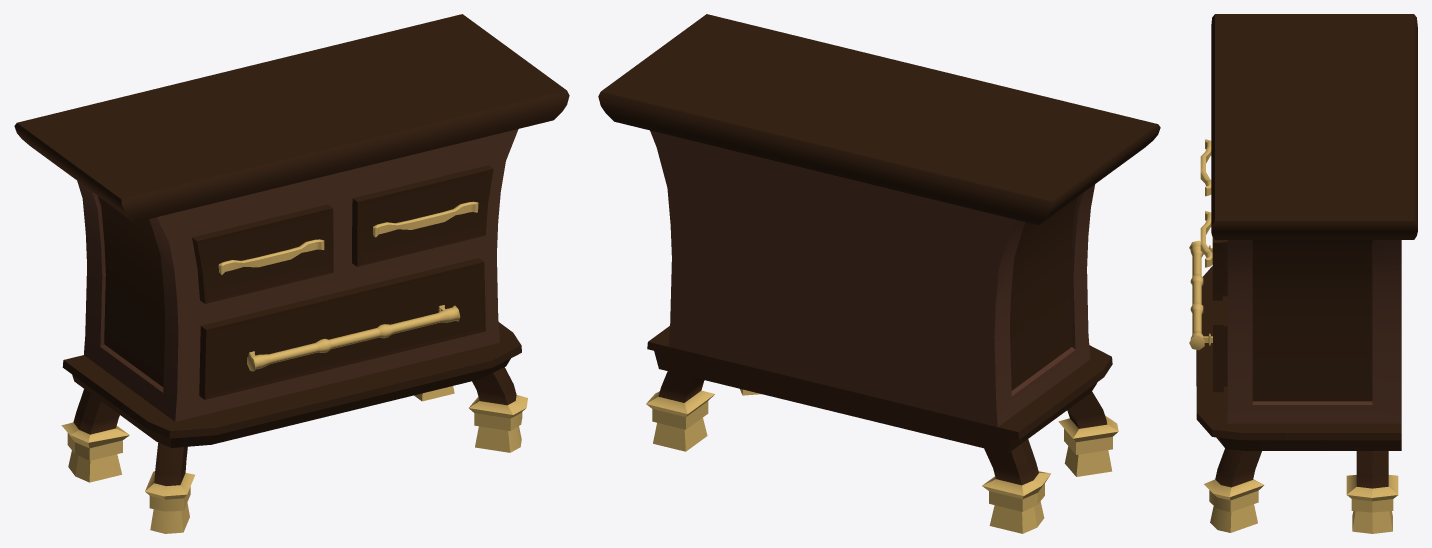
Rendered from MiscHallwayCabinetUV.fbx.
3 views of the same model, side by side, from view 1: azimuth 30°, elevation 25°; view 2: azimuth 150°, elevation 25°; view 3: azimuth 270°, elevation 25° (orthographic). The views are drawn at different scales.
Visible parts, largest first — view 1: polySurface49; view 2: polySurface49; view 3: polySurface49.
Part boxes in pixels (box(x1,y1,x2,y2)): polySurface49: box(14, 14, 569, 533); polySurface49: box(598, 14, 1160, 533); polySurface49: box(1189, 14, 1417, 533).
Size of the model in its own units: 185 by 137 by 85.84.
